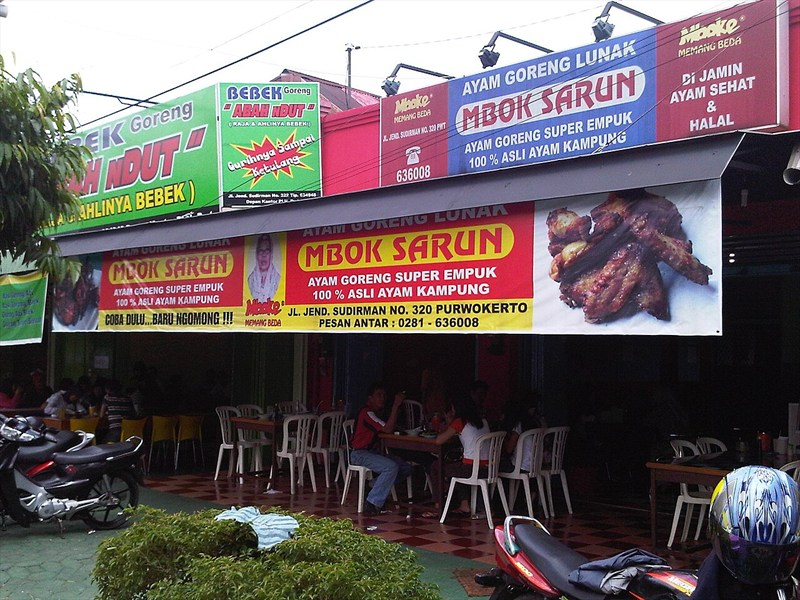Ayam Goreng: (82, 12, 743, 516)
